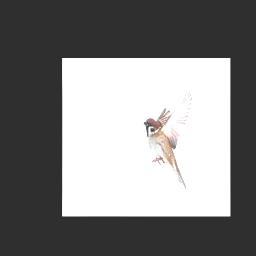Sparrow: (144, 89, 194, 189)
